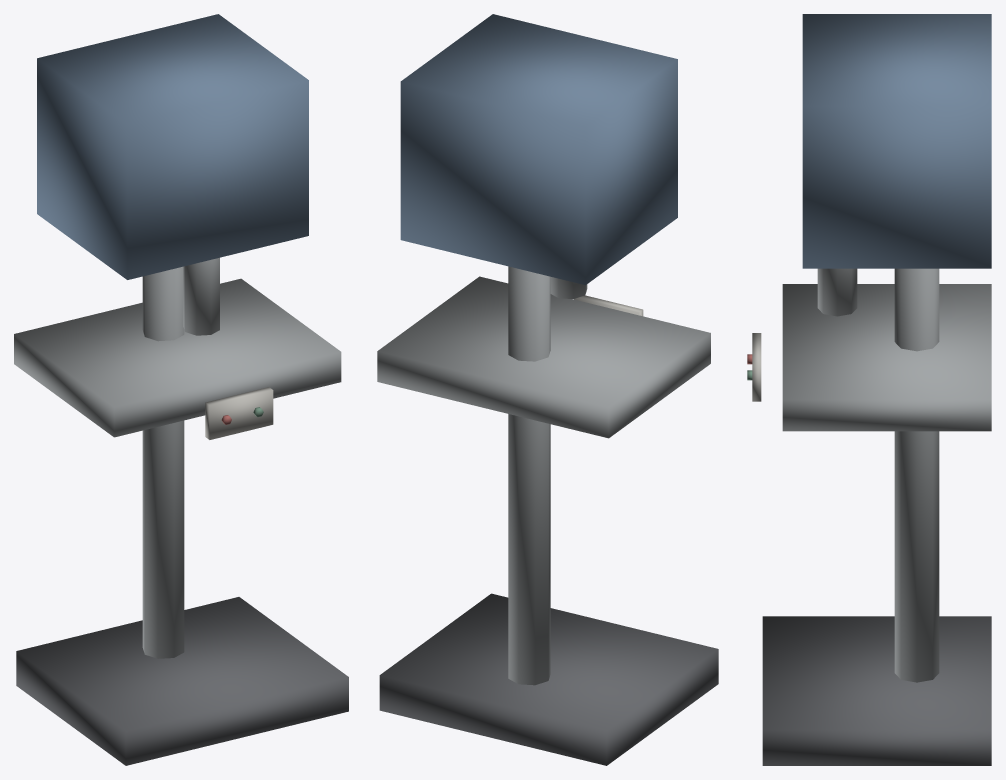
Rendered from drill_press.glb.
The picture shows the model from 3 angles, left to right: view 1: azimuth 30°, elevation 25°; view 2: azimuth 150°, elevation 25°; view 3: azimuth 270°, elevation 25°; orthographic projection. The views are drawn at different scales.
Visible parts, largest first — view 1: world; view 2: world; view 3: world.
Boxes of the visible parts, x1,y1,x2,y2 form: world: (14,14,348,765); world: (377,14,718,765); world: (747,14,991,765).
Bounding box in the file's own units: 0.55 × 1.44 × 0.491.
